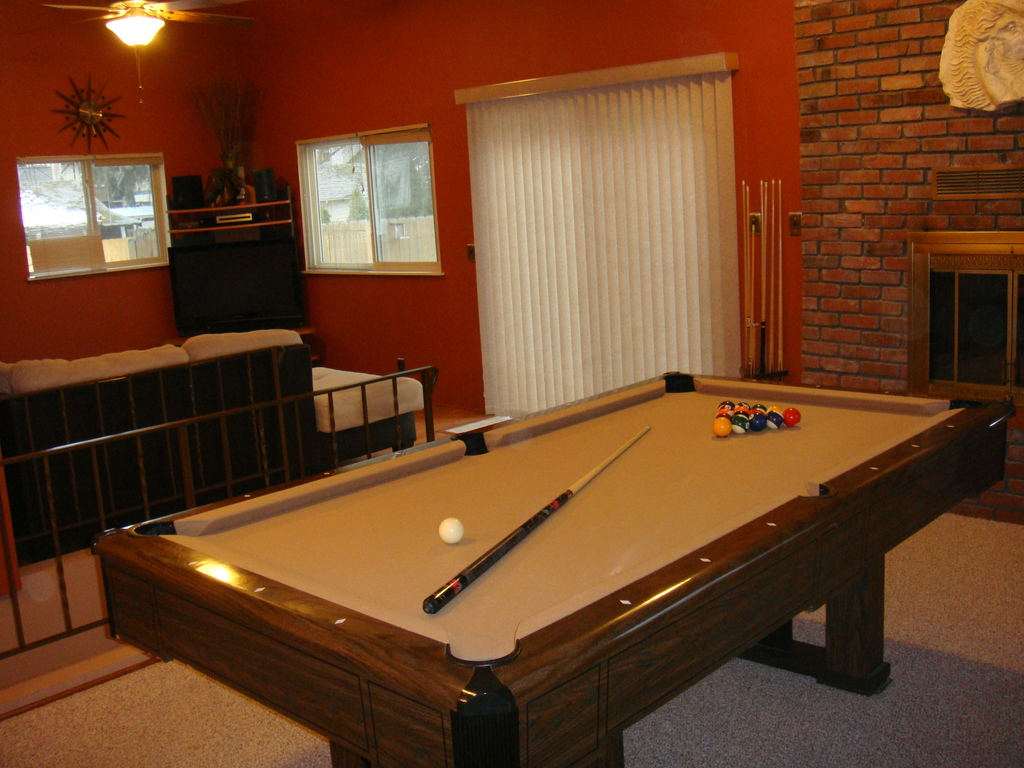Ball: (716, 396, 804, 438), (437, 516, 463, 545)
